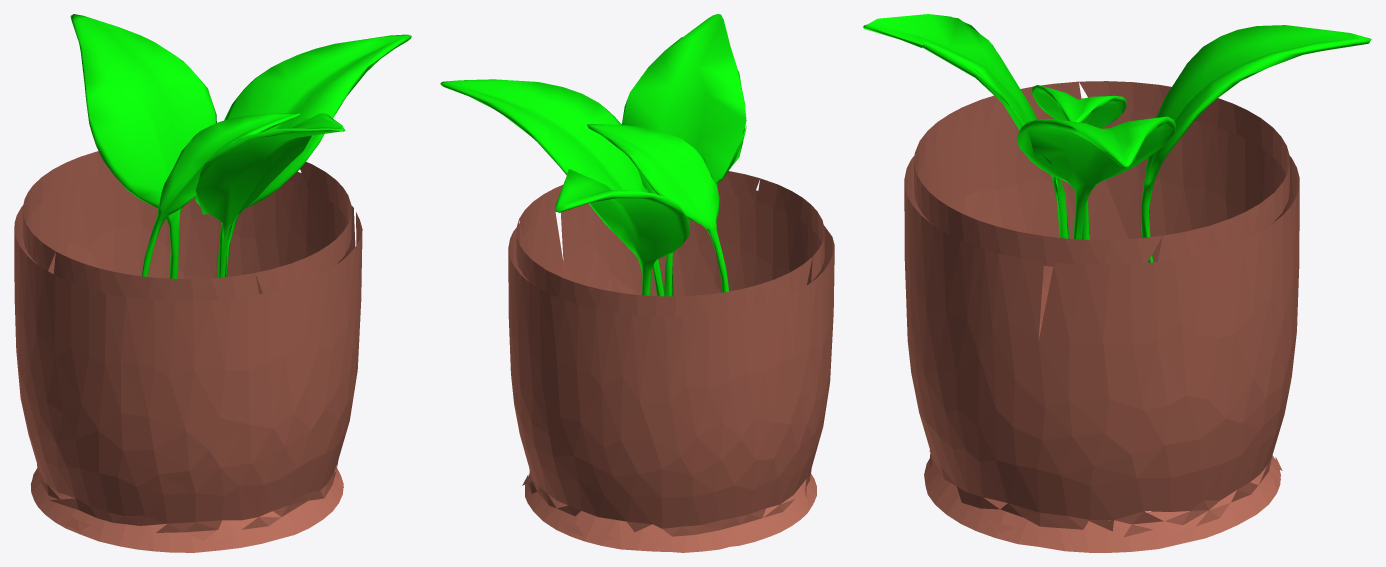
File: plant_2.glb
3 views of the same model, side by side, from view 1: azimuth 30°, elevation 25°; view 2: azimuth 150°, elevation 25°; view 3: azimuth 270°, elevation 25° (orthographic). The views are drawn at different scales.
Visible parts, largest first — view 1: FlowerPot, Plant.000, Plant.001, Plant.002, Plant.003; view 2: FlowerPot, Plant.002, Plant.001, Plant.003, Plant.000; view 3: FlowerPot, Plant.000, Plant.001, Plant.002, Plant.003.
Boxes of the visible parts, <box> form: FlowerPot: <box>14,151,362,552</box>; Plant.000: <box>70,14,216,278</box>; Plant.001: <box>221,34,411,276</box>; Plant.002: <box>195,113,345,277</box>; Plant.003: <box>141,113,301,276</box>; FlowerPot: <box>508,171,834,552</box>; Plant.002: <box>621,14,747,296</box>; Plant.001: <box>440,79,664,296</box>; Plant.003: <box>587,124,729,292</box>; Plant.000: <box>555,169,690,295</box>; FlowerPot: <box>904,81,1299,552</box>; Plant.000: <box>1141,25,1371,262</box>; Plant.001: <box>1017,116,1175,239</box>; Plant.002: <box>863,14,1069,238</box>; Plant.003: <box>1032,85,1126,239</box>.
Size of the model in its own units: 2.55 by 2.68 by 2.56.
